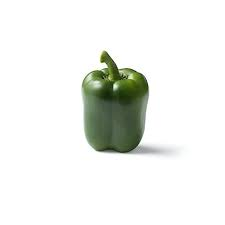fruit_pepper: (80, 49, 150, 154)
